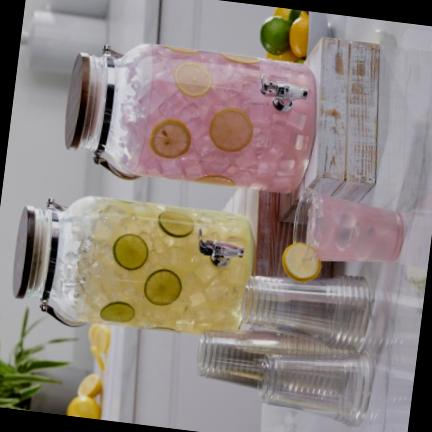container: (65, 43, 316, 192), (13, 195, 253, 333)
fluid: (132, 42, 314, 192), (78, 194, 253, 334)
fluid-surface: (129, 43, 153, 173), (74, 194, 96, 322)
